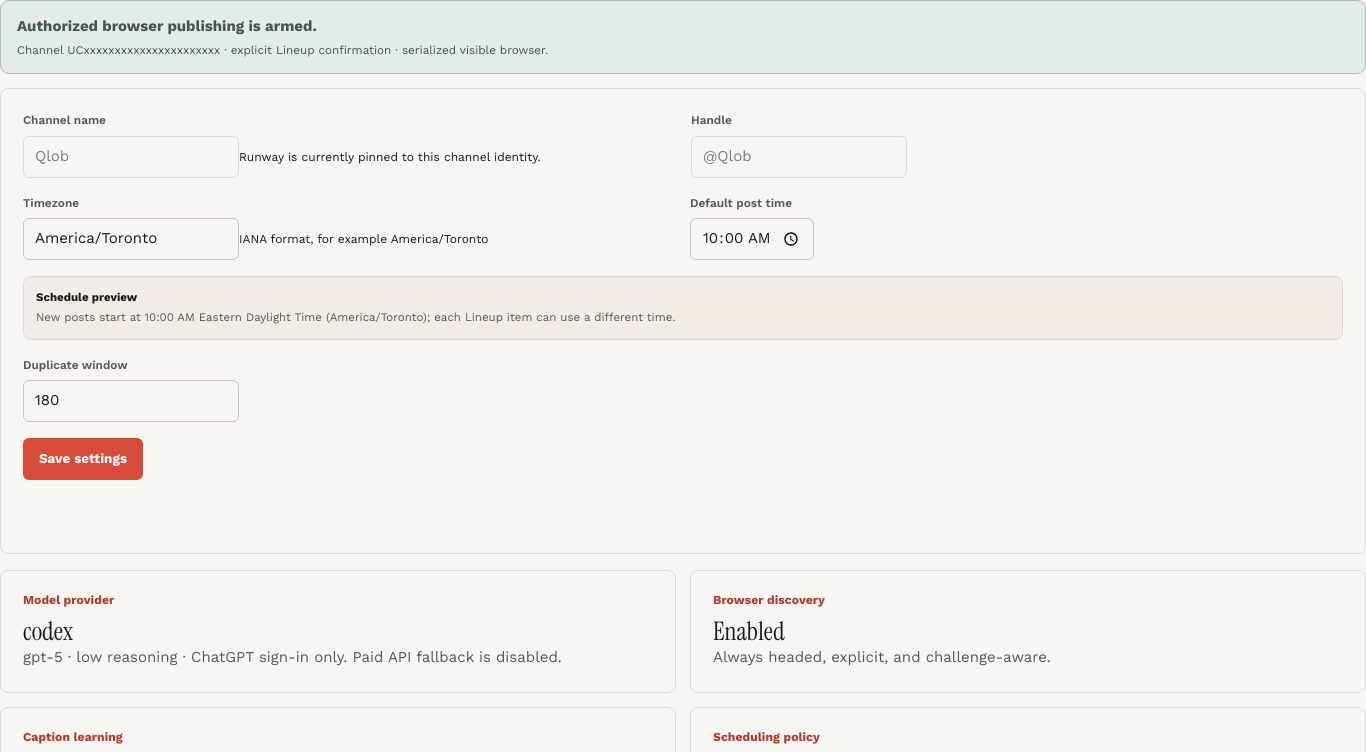
Test case: SettingsForm › validates locally and preserves the invalid entry without submitting
The width and height of the screenshot is (1366, 752).
Replace the text in the field labelled "Timezone" with "Toronto-ish". click: (131, 239)
box: [23,218,239,260]
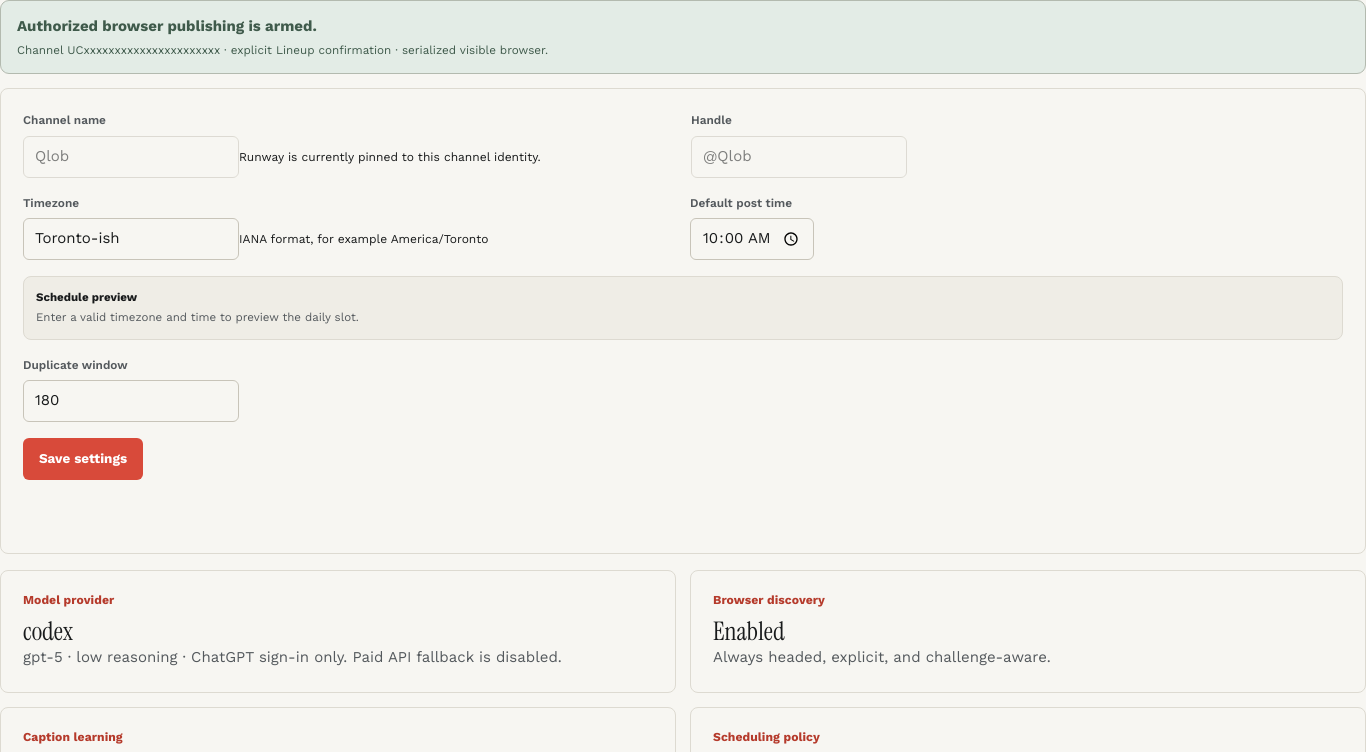
Click the button "Save settings". click: (83, 459)
box: [23,438,143,480]
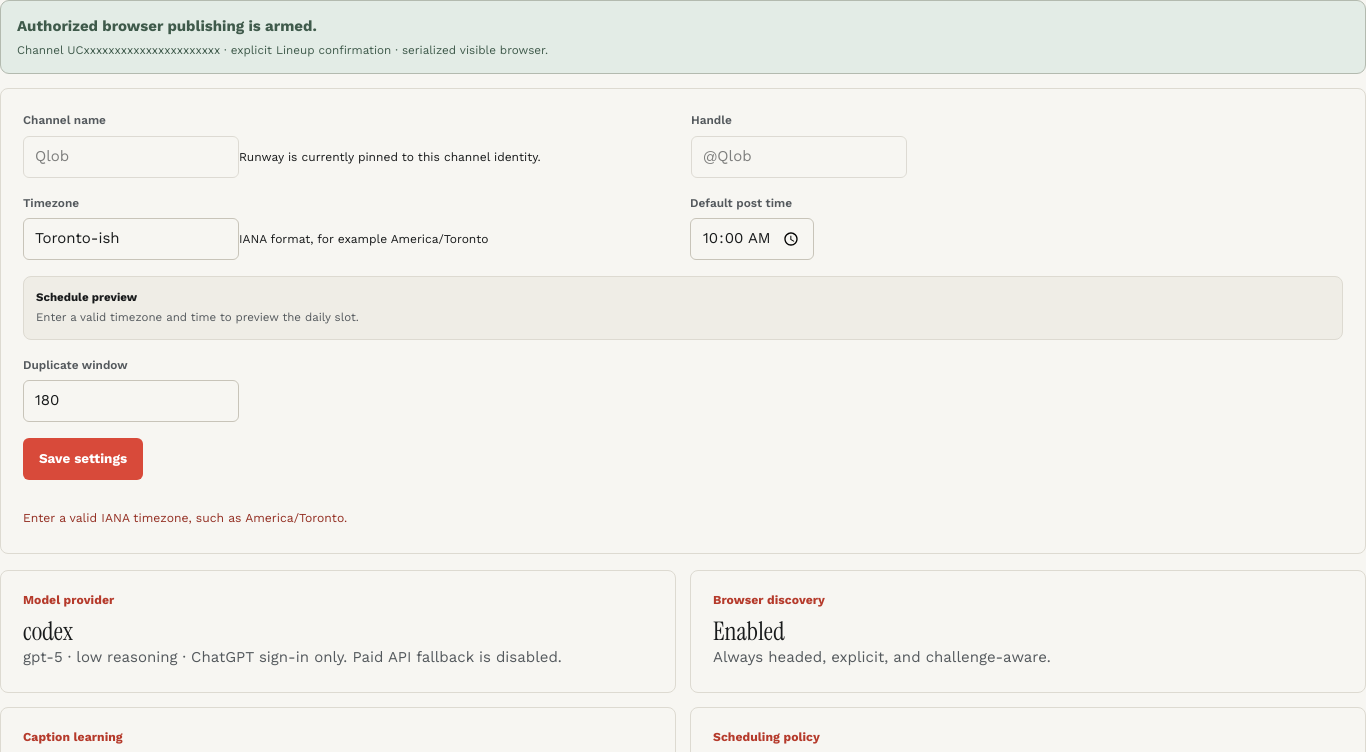
Result: the message "Enter a valid IANA timezone, such as America/Toronto." is shown at [23,511,347,525]
